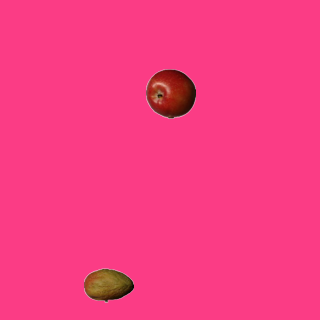Apple Braeburn: (145, 68, 195, 118)
Papaya: (83, 260, 133, 310)
